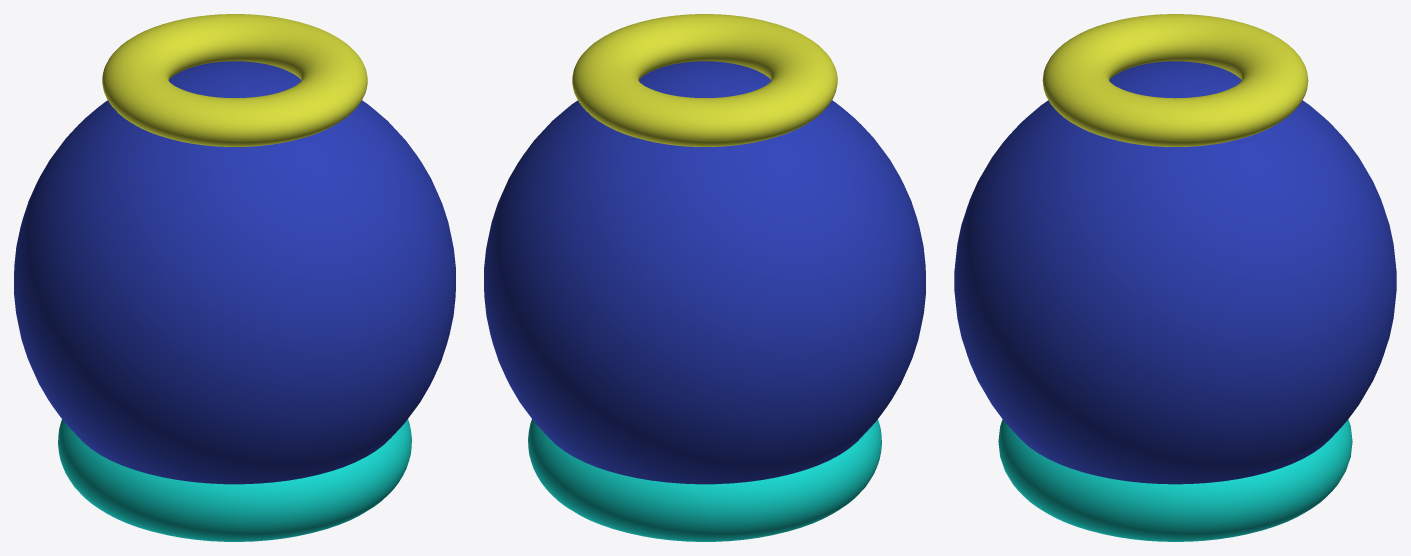
File: Cube PlatJumper Player 2.0.gltf
3 views of the same model, side by side, from view 1: azimuth 30°, elevation 25°; view 2: azimuth 150°, elevation 25°; view 3: azimuth 270°, elevation 25° (orthographic).
Parts seen in each view (by area): view 1: MeshInstance3D, MeshInstance3D3, MeshInstance3D2; view 2: MeshInstance3D, MeshInstance3D3, MeshInstance3D2; view 3: MeshInstance3D, MeshInstance3D3, MeshInstance3D2.
Boxes of the visible parts, bbox=[...] form: MeshInstance3D: bbox=[14, 61, 455, 484]; MeshInstance3D3: bbox=[102, 14, 367, 146]; MeshInstance3D2: bbox=[58, 419, 411, 541]; MeshInstance3D: bbox=[484, 61, 925, 484]; MeshInstance3D3: bbox=[572, 14, 837, 146]; MeshInstance3D2: bbox=[528, 419, 881, 541]; MeshInstance3D: bbox=[954, 61, 1396, 484]; MeshInstance3D3: bbox=[1042, 14, 1308, 146]; MeshInstance3D2: bbox=[998, 419, 1352, 541].
Size of the model in its own units: 0.0799 by 0.084 by 0.0799.
